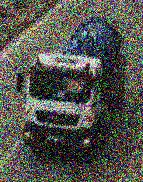truck: (15, 18, 126, 158)
